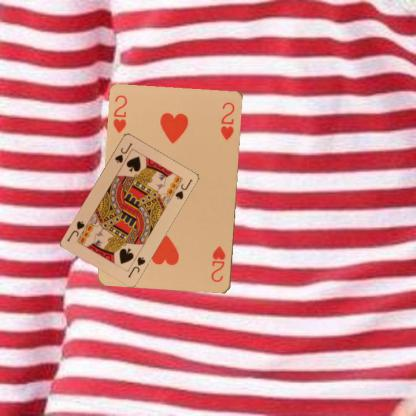2h: (209, 243, 227, 284), (111, 92, 128, 134)
Js: (125, 254, 147, 279), (112, 140, 134, 164)
